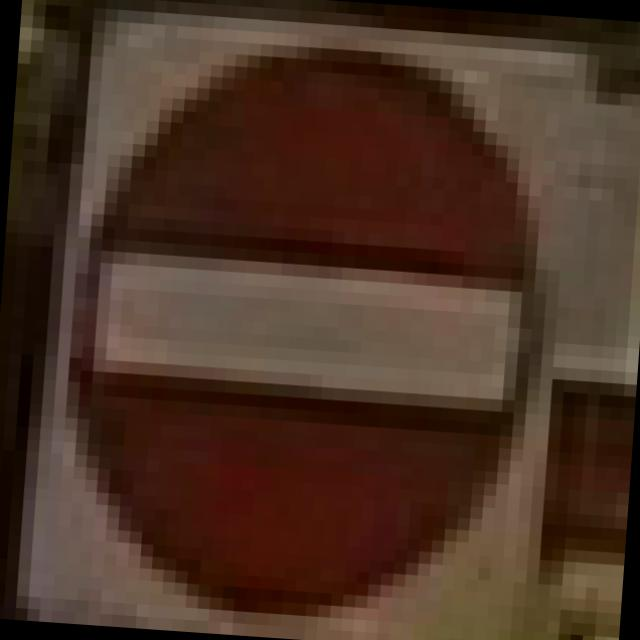noentry_sign: (40, 19, 562, 630)
